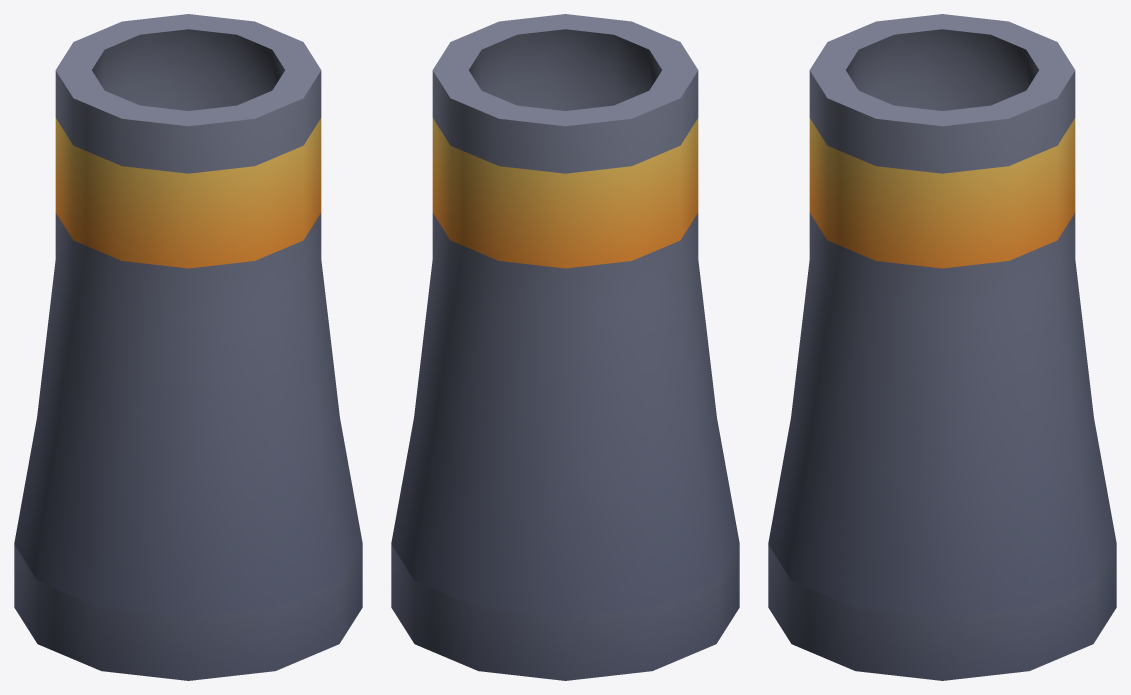
The model's file is chimney-large_lev1.glb.
The picture shows the model from 3 angles, left to right: view 1: azimuth 30°, elevation 25°; view 2: azimuth 150°, elevation 25°; view 3: azimuth 270°, elevation 25°; orthographic projection.
Parts seen in each view (by area): view 1: chimney-large_lev1; view 2: chimney-large_lev1; view 3: chimney-large_lev1.
Boxes of the visible parts, bbox=[...] form: chimney-large_lev1: bbox=[14, 14, 362, 680]; chimney-large_lev1: bbox=[391, 14, 739, 680]; chimney-large_lev1: bbox=[768, 14, 1116, 680].
Size of the model in its own units: 7.44 by 12.66 by 7.44.
1 material, 1 textured.
